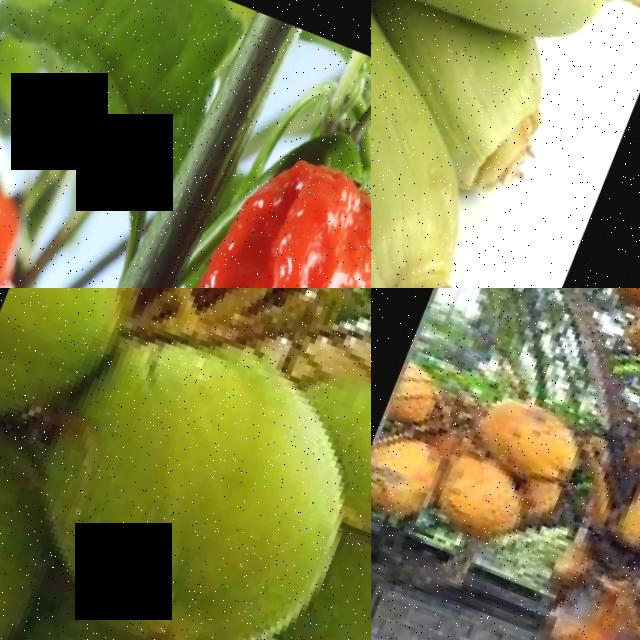coconut: (13, 298, 371, 640), (295, 397, 371, 640)
coconuts: (371, 344, 593, 575)
